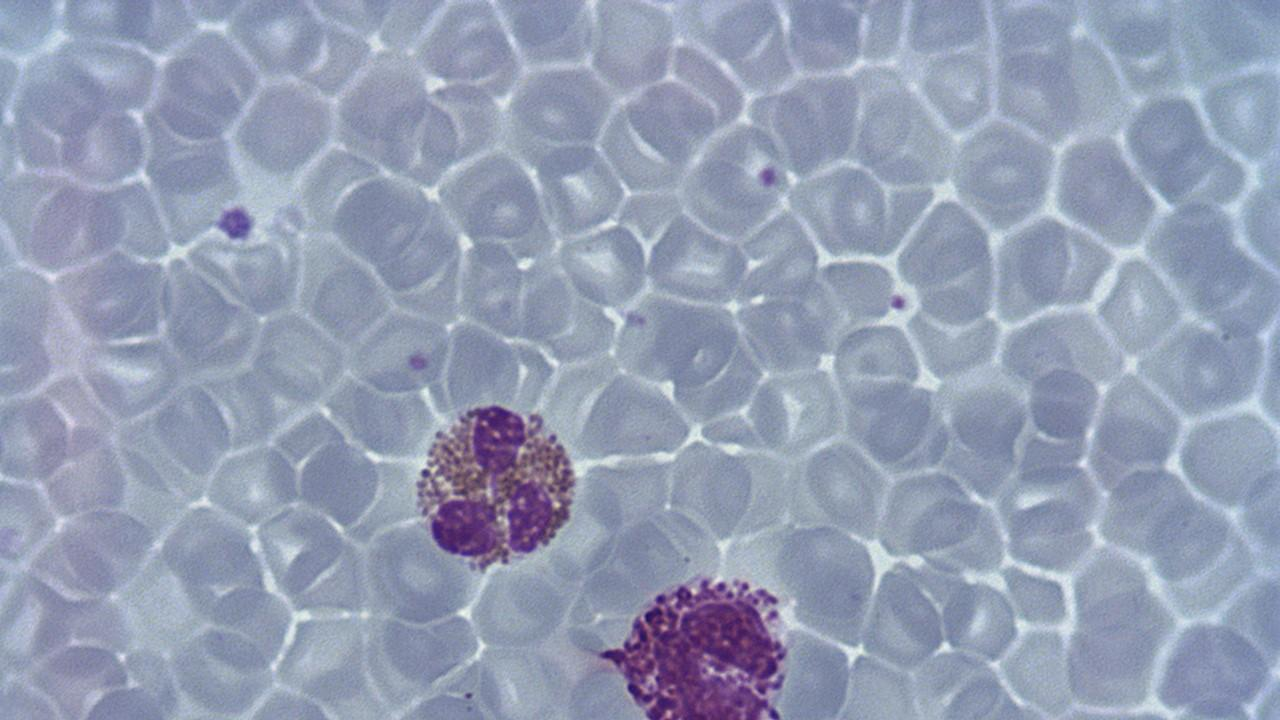RBC: (1174, 404, 1276, 512), (234, 81, 337, 176), (747, 364, 846, 461), (25, 180, 128, 273), (328, 173, 430, 266), (248, 311, 346, 407), (57, 502, 157, 595), (678, 148, 776, 240), (828, 320, 924, 412), (78, 335, 182, 419), (992, 47, 1083, 142), (535, 139, 625, 234), (585, 0, 677, 92), (620, 78, 715, 167), (204, 442, 301, 526), (556, 222, 648, 308), (377, 94, 460, 189), (58, 99, 147, 187), (1003, 492, 1097, 572), (1202, 62, 1278, 160), (232, 0, 324, 78), (941, 576, 1020, 662), (782, 0, 866, 80), (1, 390, 70, 486), (924, 48, 998, 132), (1028, 365, 1104, 441), (1, 317, 56, 398), (1, 1, 66, 55), (172, 0, 257, 25)
WBC: (560, 563, 812, 717), (410, 400, 580, 571), (221, 83, 346, 179), (1252, 295, 1280, 446)
